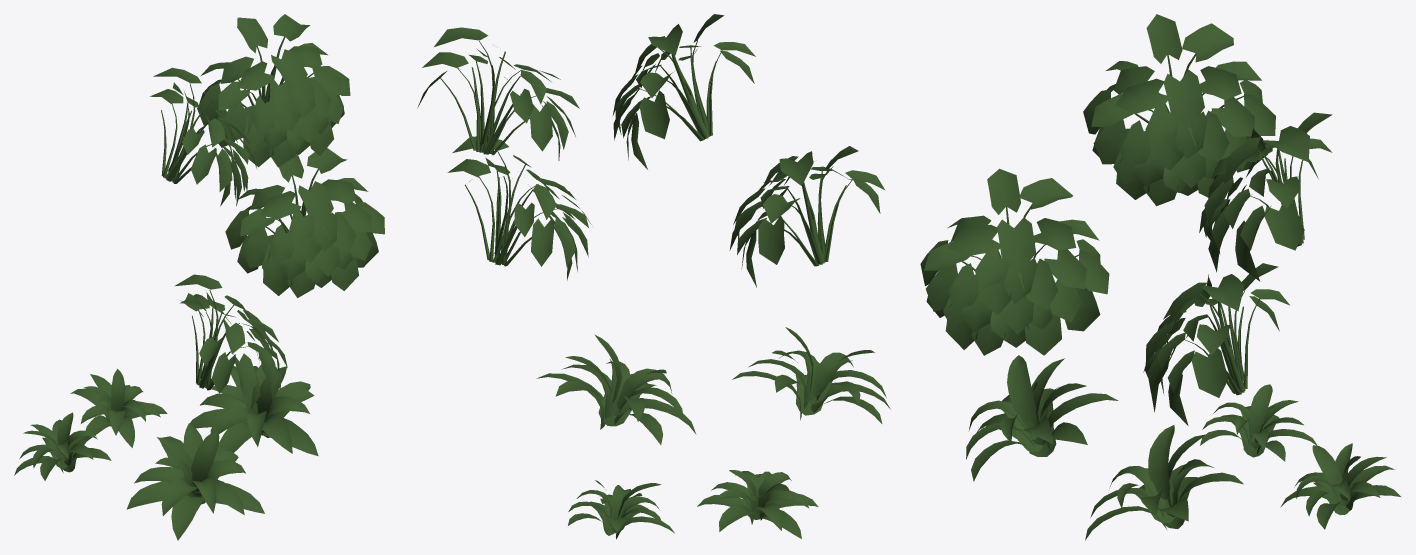
Rendered from mg0101_plants_op.glb.
The picture shows the model from 3 angles, left to right: view 1: azimuth 30°, elevation 25°; view 2: azimuth 150°, elevation 25°; view 3: azimuth 270°, elevation 25°; orthographic projection. The views are drawn at different scales.
Parts seen in each view (by area): view 1: plant_d5__VRayMtl2__mesh, bush_f4__VRayMtl2__mesh; view 2: plant_d5__VRayMtl2__mesh, bush_f4__VRayMtl2__mesh; view 3: plant_d5__VRayMtl2__mesh, bush_f4__VRayMtl2__mesh.
Part boxes in pixels (x1,y1,x2,y2): plant_d5__VRayMtl2__mesh: [150, 14, 384, 409]; bush_f4__VRayMtl2__mesh: [14, 358, 318, 540]; plant_d5__VRayMtl2__mesh: [417, 14, 885, 287]; bush_f4__VRayMtl2__mesh: [536, 327, 890, 539]; plant_d5__VRayMtl2__mesh: [920, 14, 1332, 425]; bush_f4__VRayMtl2__mesh: [966, 355, 1400, 540].
Bounding box in the file's own units: 5.02 × 5.78 × 5.13.
